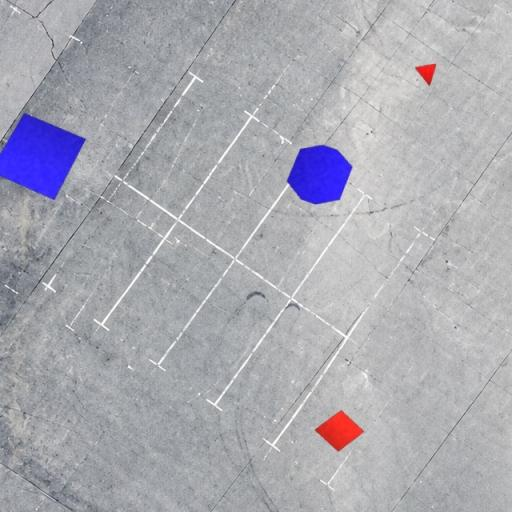BLUE_SQUARE: (0, 112, 86, 200)
RED_SQUARE: (314, 410, 366, 452)
